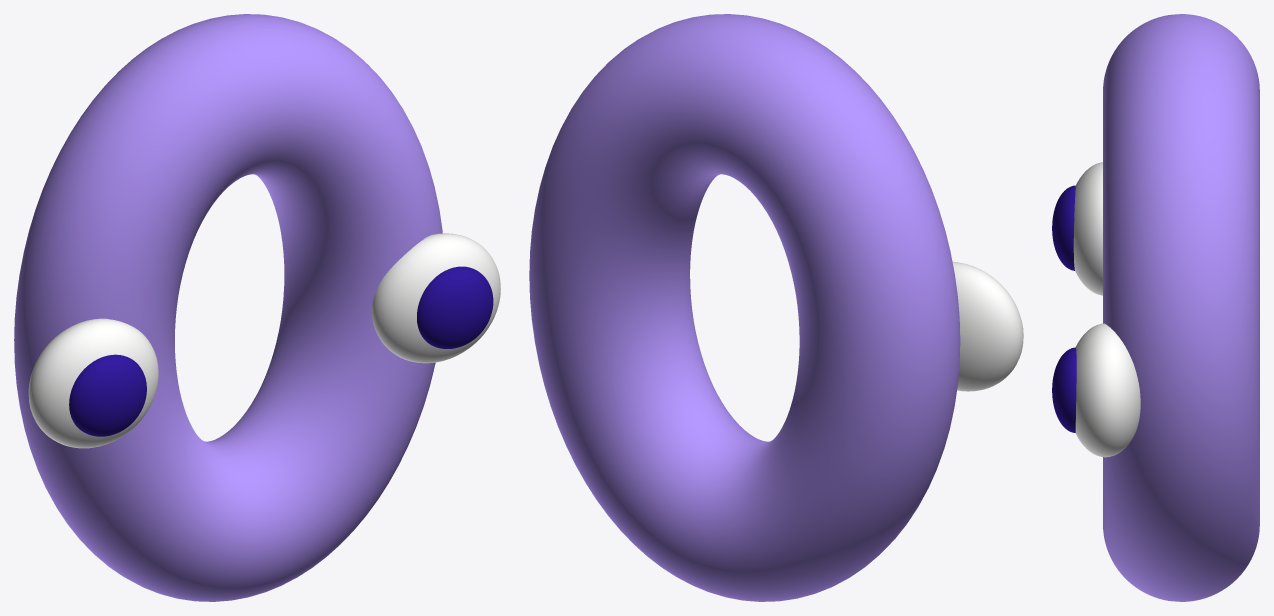
The picture shows the model from 3 angles, left to right: view 1: azimuth 30°, elevation 25°; view 2: azimuth 150°, elevation 25°; view 3: azimuth 270°, elevation 25°; orthographic projection. The views are drawn at different scales.
Visible parts, largest first — view 1: root_Material_46_0, root_Material_50_0 (×2), root_Material_60_0, root_Material_58_0; view 2: root_Material_46_0, root_Material_50_0; view 3: root_Material_46_0, root_Material_50_0 (×2), root_Material_58_0, root_Material_60_0.
Part boxes in pixels (x1=…): root_Material_46_0: x1=14, y1=14, x2=442, y2=601; root_Material_50_0 (×2): x1=28, y1=233, x2=500, y2=448; root_Material_60_0: x1=69, y1=354, x2=146, y2=436; root_Material_58_0: x1=417, y1=266, x2=493, y2=348; root_Material_46_0: x1=529, y1=14, x2=960, y2=601; root_Material_50_0: x1=952, y1=261, x2=1023, y2=391; root_Material_46_0: x1=1103, y1=14, x2=1259, y2=601; root_Material_50_0 (×2): x1=1073, y1=162, x2=1140, y2=457; root_Material_58_0: x1=1052, y1=347, x2=1076, y2=432; root_Material_60_0: x1=1052, y1=185, x2=1075, y2=270.
Size of the model in its own units: 0.00344 by 0.00401 by 0.00136.
Materials: 5 (2 with a texture image).
